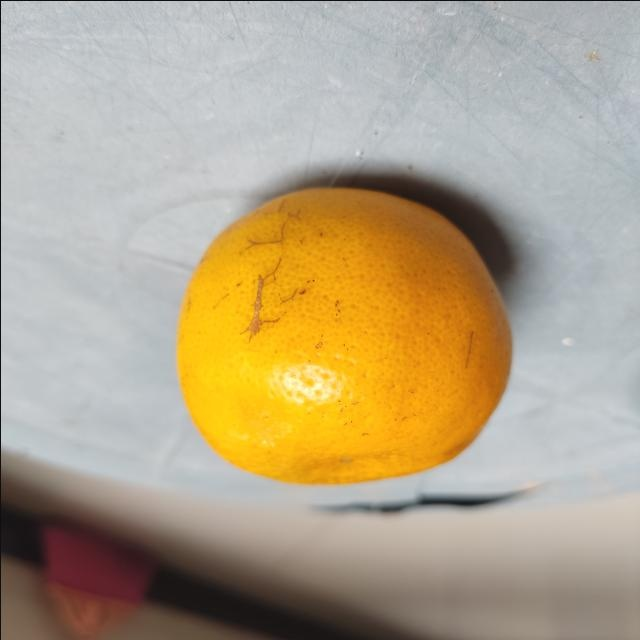agrume: (169, 184, 515, 488)
